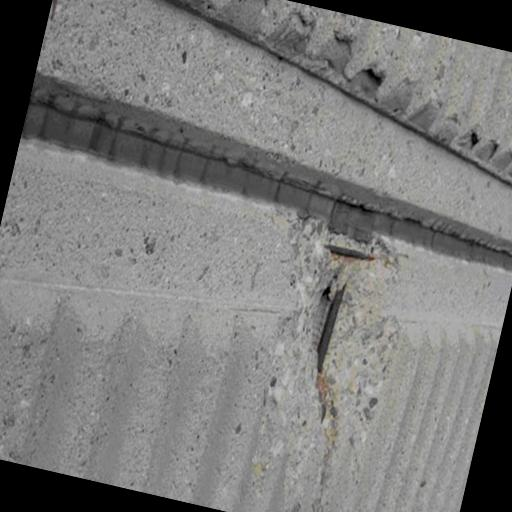spalling: (283, 224, 382, 427)
